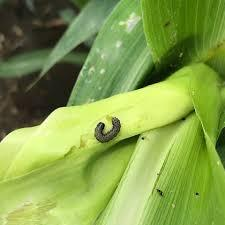fallarmy_worm: (89, 113, 123, 145)
